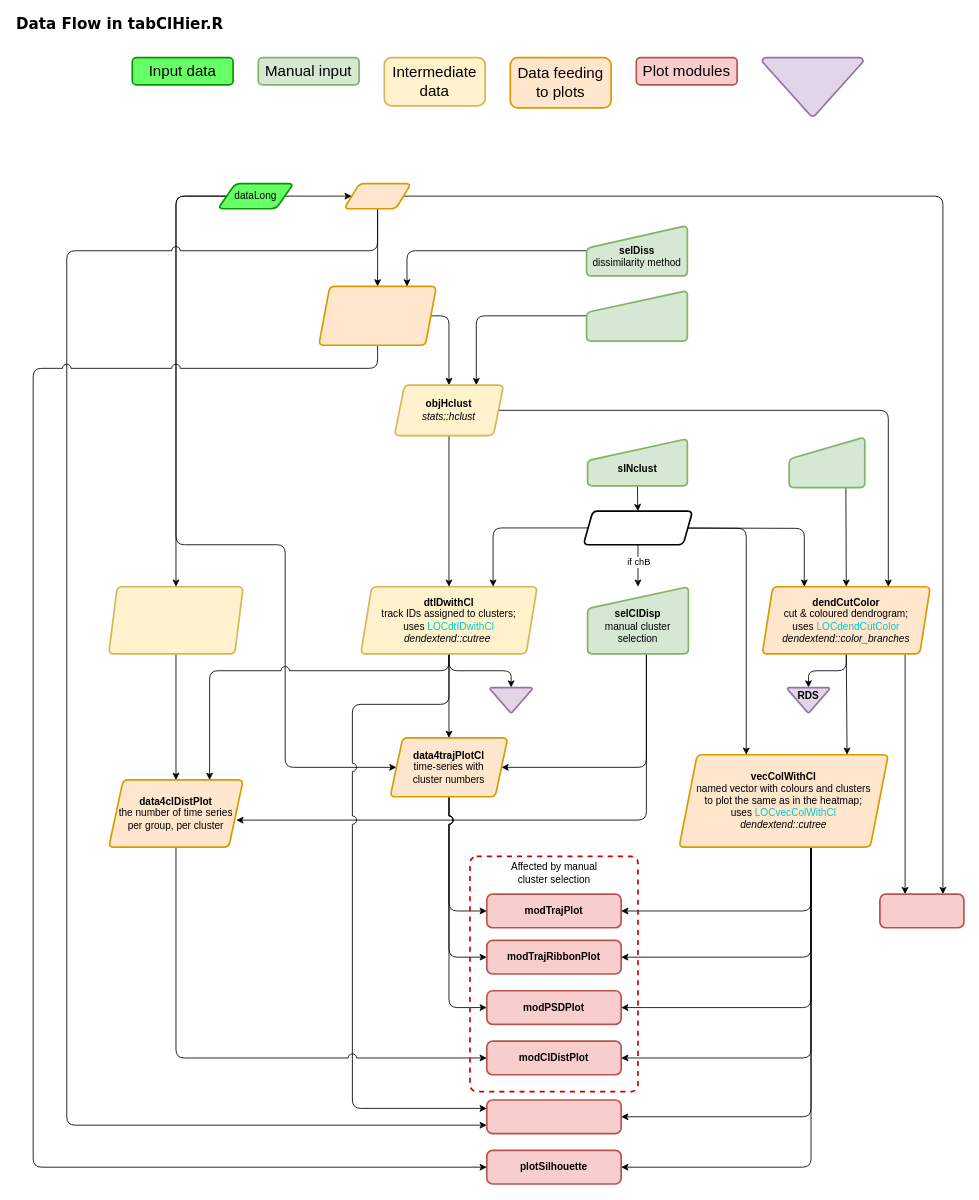
Image size: 979x1200. Some labels were removed from this diagram. The centre of each missing label's shape, as x and y in pixels:
"CSV" belongs at (x=511, y=699).
"dataWide" belongs at (x=377, y=195).
"dmDiss distance matrix stats::dist" belongs at (x=377, y=315).
"dtIDwithCond track IDs assigned to grouping/condition" belongs at (x=176, y=619).
"File output" belongs at (x=812, y=86).
"intNclust number of clusters" belongs at (x=637, y=527).
"plotHeatmap" belongs at (x=921, y=910).
"plotPCA" belongs at (x=554, y=1116).
"selLink linkage method" belongs at (x=636, y=315).
"selPalDend colour palette" belongs at (x=826, y=462).
